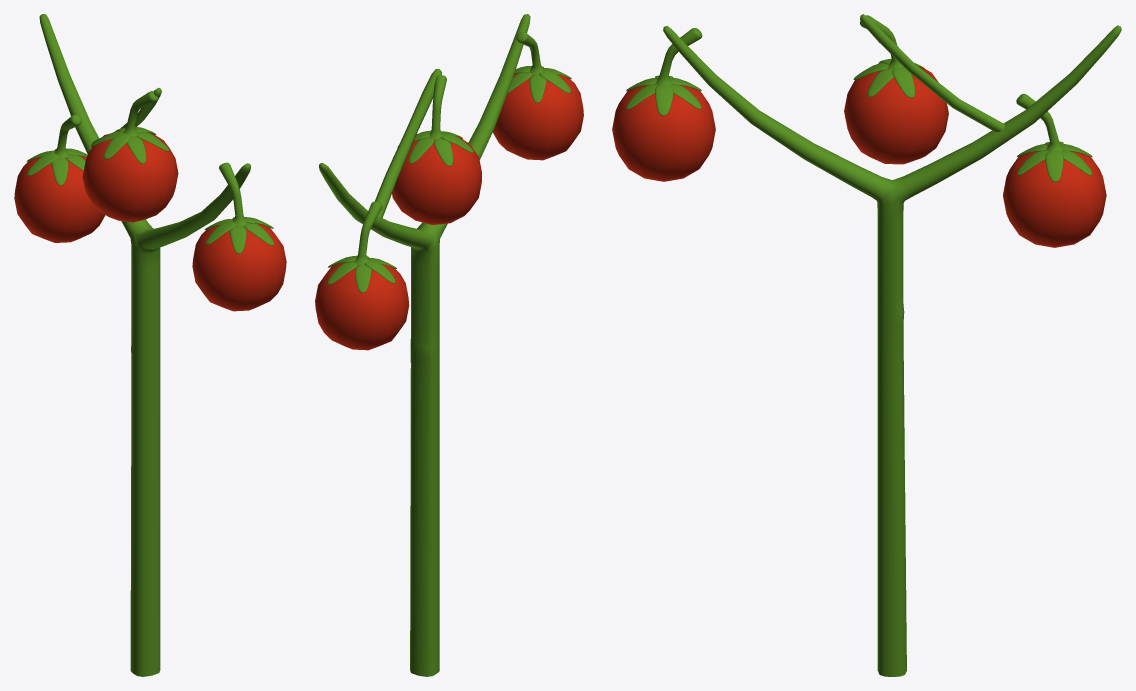
File: prop24.fbx
The picture shows the model from 3 angles, left to right: view 1: azimuth 30°, elevation 25°; view 2: azimuth 150°, elevation 25°; view 3: azimuth 270°, elevation 25°; orthographic projection. The views are drawn at different scales.
Parts seen in each view (by area): view 1: Cube.081; view 2: Cube.081; view 3: Cube.081.
Boxes of the visible parts, x1,y1,x2,y2 form: Cube.081: (14,14,286,676); Cube.081: (315,14,583,676); Cube.081: (612,14,1121,676).
Size of the model in its own units: 0.159 by 0.7397 by 1.05.
